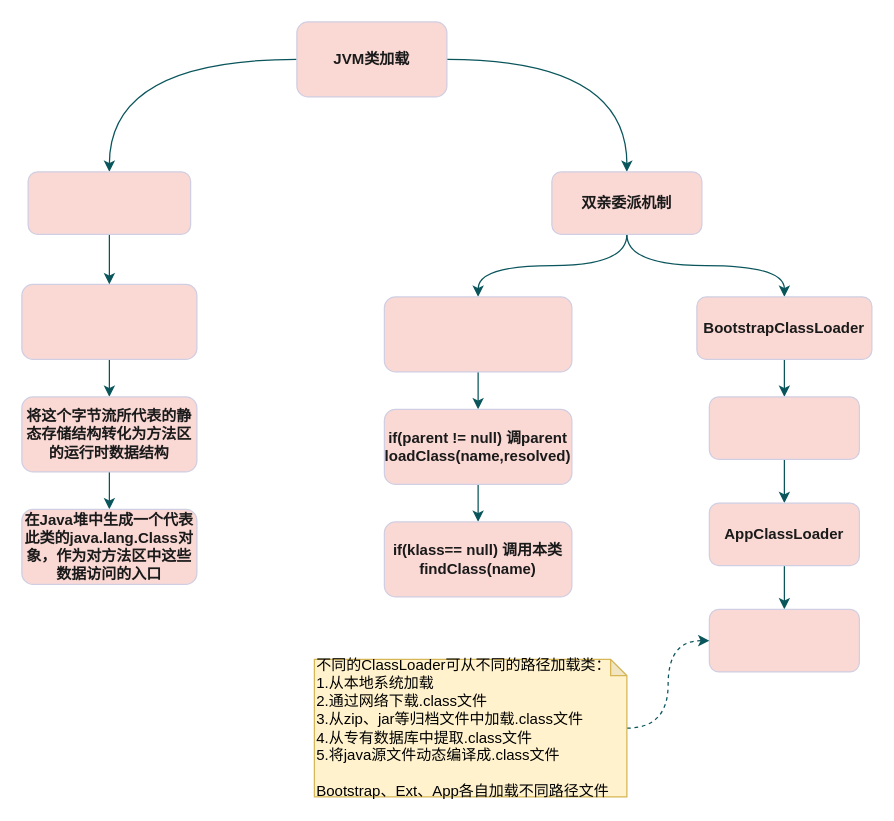
This 894x821 diagram has some shape labels left out. The shapes that lost their labels are listed below. From the top down, each one's box as (x1, y1, x2, y2) in pixels, then its label:
(27, 171, 191, 234): 加载阶段需完成三件事
(21, 283, 197, 359): 通过类的全限定名来获取其定义的二进制字节流
(383, 296, 572, 372): ClassLoader loadClass(name,resolved)
(708, 396, 859, 459): ExtClassLoader
(708, 608, 859, 672): 自定义 ClassLoader
